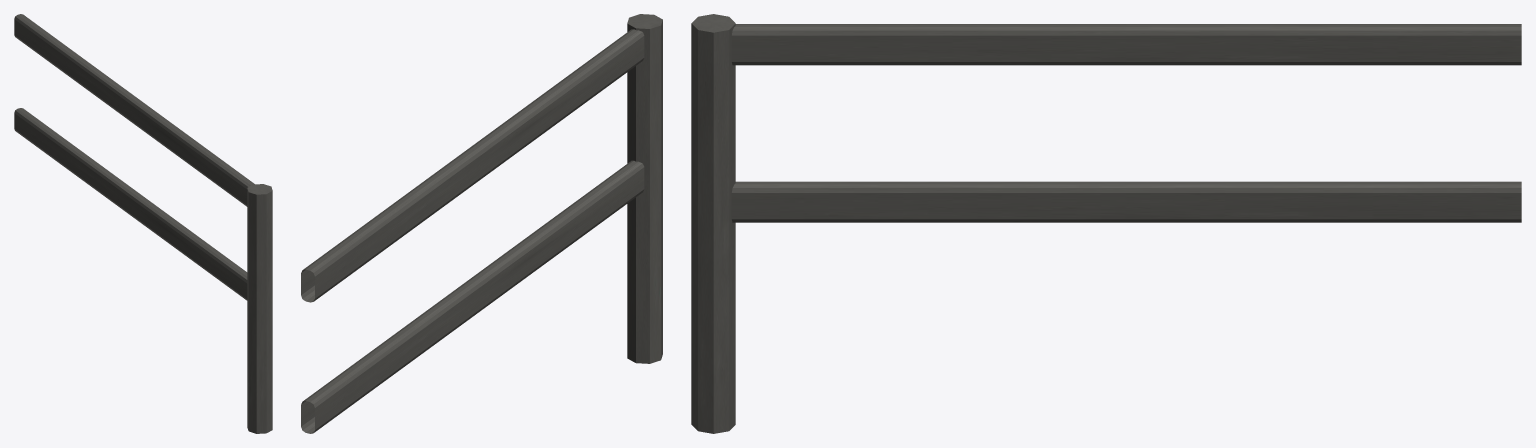
File: MetalFence.dae
The picture shows the model from 3 angles, left to right: view 1: azimuth 30°, elevation 25°; view 2: azimuth 150°, elevation 25°; view 3: azimuth 270°, elevation 25°; orthographic projection. The views are drawn at different scales.
Visible parts, largest first — view 1: Cylinder; view 2: Cylinder; view 3: Cylinder.
Part boxes in pixels (box(x1,y1,x2,y2)): Cylinder: box(14, 14, 272, 433); Cylinder: box(301, 14, 662, 433); Cylinder: box(691, 14, 1521, 433).
Bounding box in the file's own units: 0.2 × 3.75 × 2.
Materials: 1 (1 with a texture image).
